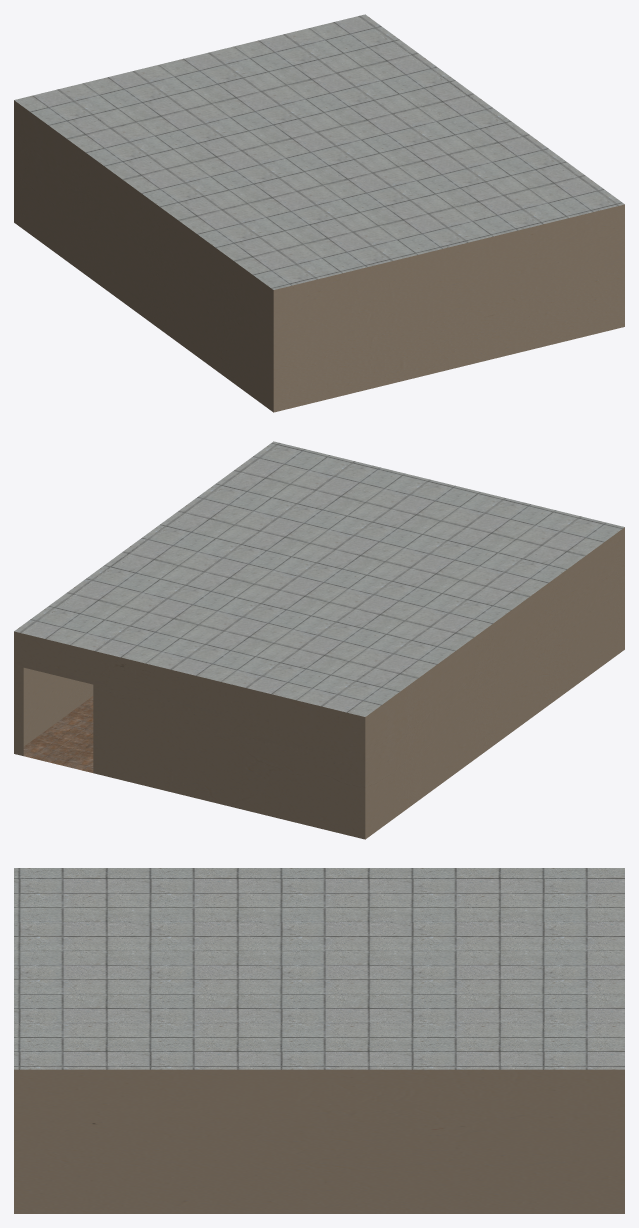
The model's file is TP14ZOENOHACENADA.fbx.
3 views of the same model, one above another, from view 1: azimuth 30°, elevation 25°; view 2: azimuth 150°, elevation 25°; view 3: azimuth 270°, elevation 25° (orthographic). The views are drawn at different scales.
Parts seen in each view (by area): view 1: Techo, Paredes; view 2: Techo, Paredes, Piso; view 3: Techo, Paredes.
Boxes of the visible parts, x1,y1,x2,y2 form: Techo: (14,14,624,289); Paredes: (14,100,624,412); Techo: (14,441,624,716); Paredes: (14,527,624,839); Piso: (23,696,93,772); Techo: (14,868,624,1069); Paredes: (14,1069,624,1213).
Size of the model in its own units: 2677 by 892 by 3427.
8 materials, 5 textured.
